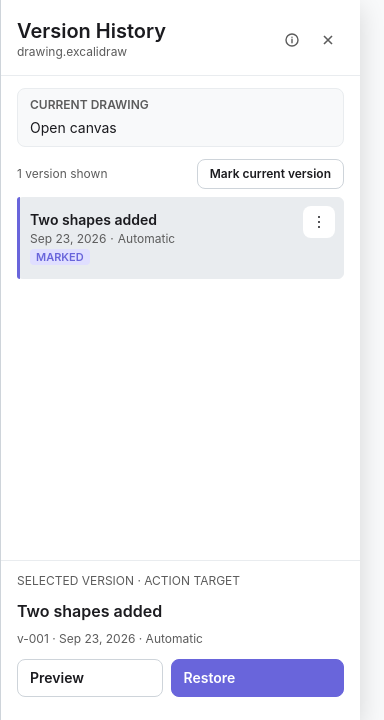
HistoryPanel › shows Mark and Unmark success on the returned target without a canvas notice
This screenshot has width=384, height=720.
Click the button "Mark current version" at (270,174), box [197, 159, 344, 189]
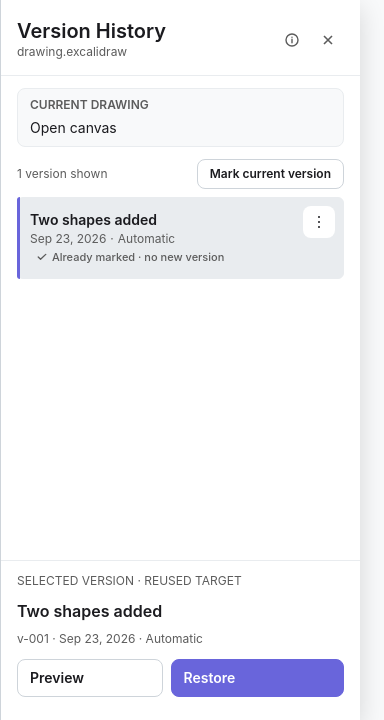
Result: the text "Already marked · no new version" is shown at [30, 249, 230, 265]
Click the button named "More actions for v-001" at (319,222), box [303, 206, 335, 238]
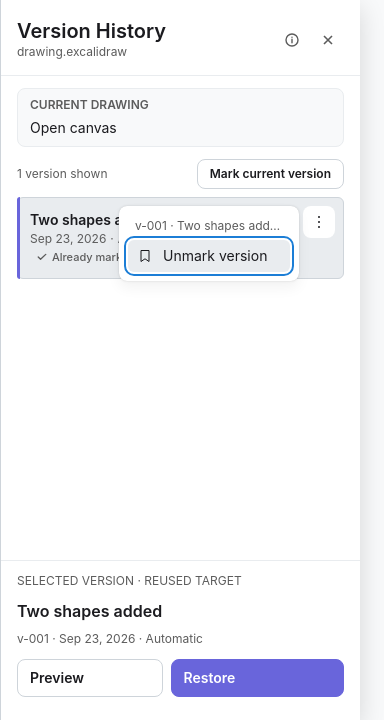
Click the menu item "Unmark version" at (209,256), box [128, 240, 290, 272]
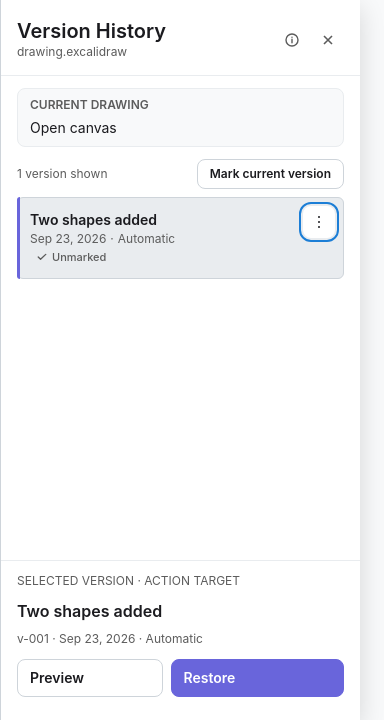
Result: the text "Unmarked" is shown at [30, 249, 112, 265]
